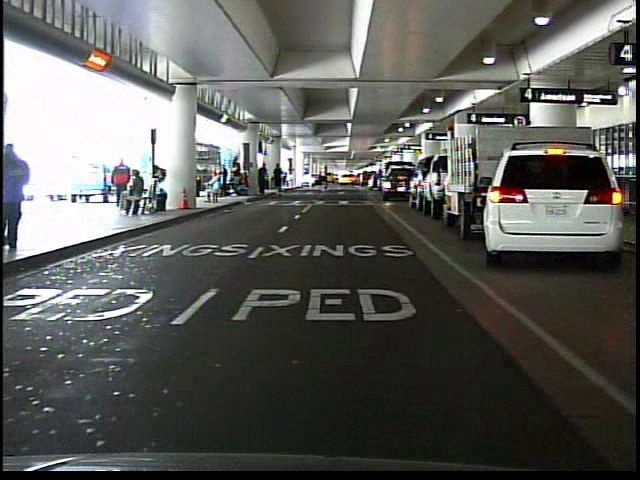person: (5, 142, 37, 256), (204, 171, 226, 207), (315, 164, 333, 195)
